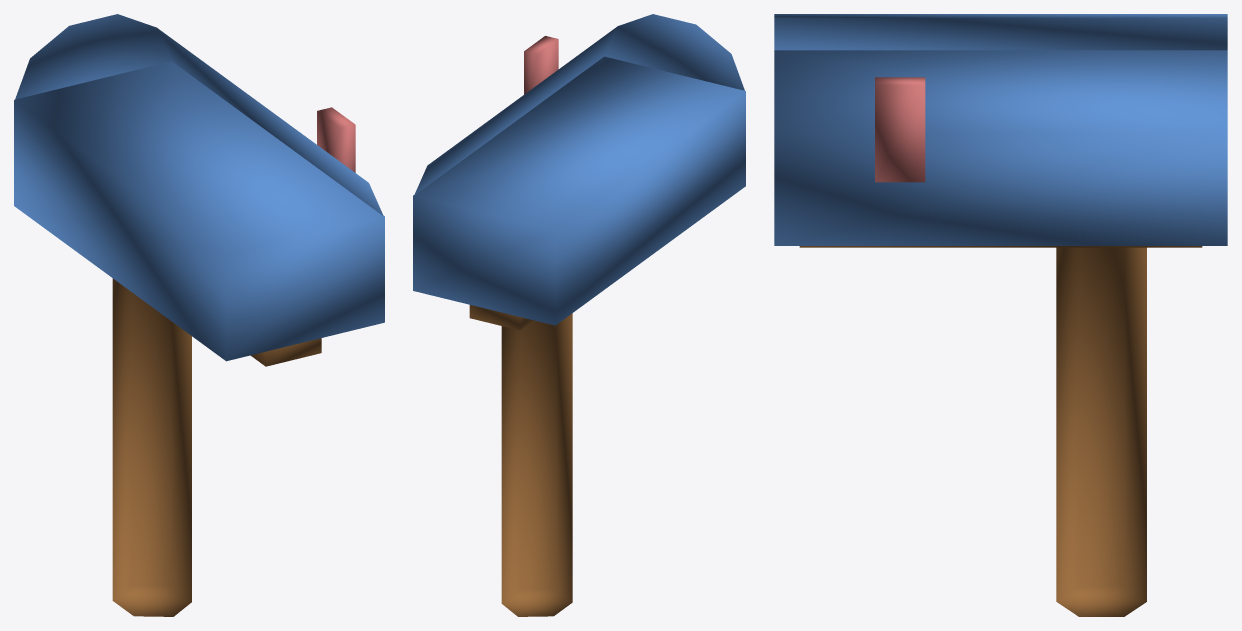
The model's file is rural-mailbox.glb.
The picture shows the model from 3 angles, left to right: view 1: azimuth 30°, elevation 25°; view 2: azimuth 150°, elevation 25°; view 3: azimuth 270°, elevation 25°; orthographic projection. The views are drawn at different scales.
Parts seen in each view (by area): view 1: world; view 2: world; view 3: world.
Boxes of the visible parts, x1=… form: world: x1=14, y1=14, x2=384, y2=616; world: x1=413, y1=14, x2=745, y2=616; world: x1=774, y1=14, x2=1227, y2=616.
Size of the model in its own units: 1.2 by 3.5 by 2.5.
